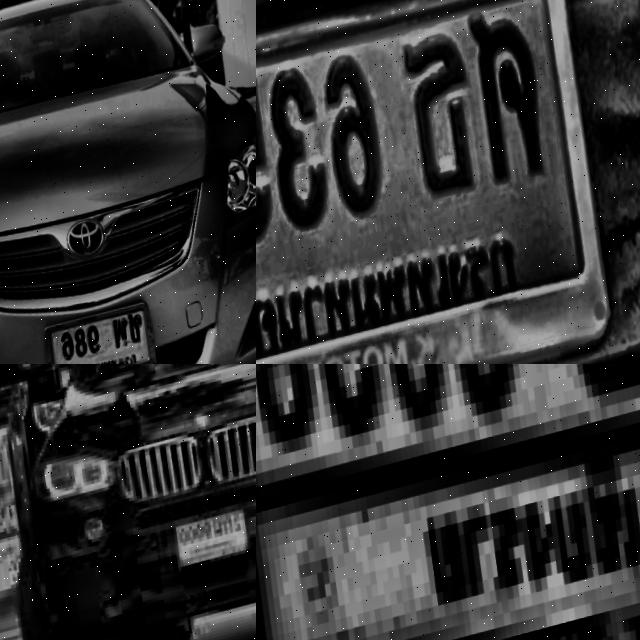license-plate: (256, 0, 631, 364), (256, 364, 640, 640), (35, 297, 170, 364), (170, 502, 256, 577)
